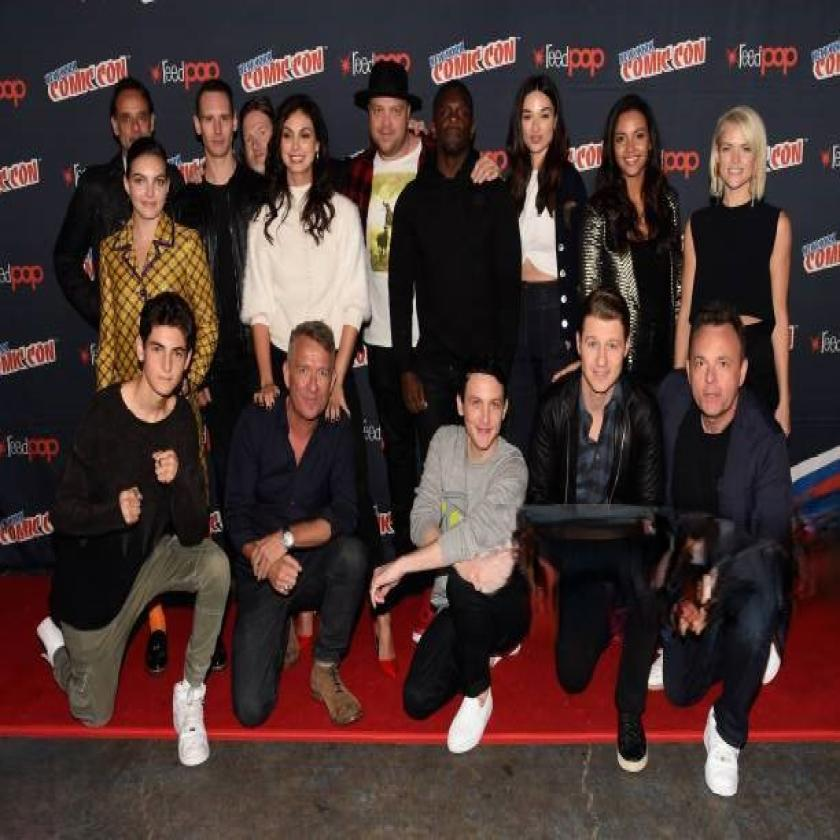Sin_casco: (685, 298, 759, 430), (496, 65, 579, 174), (574, 274, 640, 397), (597, 76, 662, 198), (134, 286, 196, 399), (422, 60, 482, 164), (283, 314, 338, 425), (718, 94, 766, 207), (121, 135, 172, 225), (457, 357, 507, 448), (107, 72, 154, 146), (199, 72, 231, 176), (280, 96, 320, 168), (238, 94, 277, 167)
